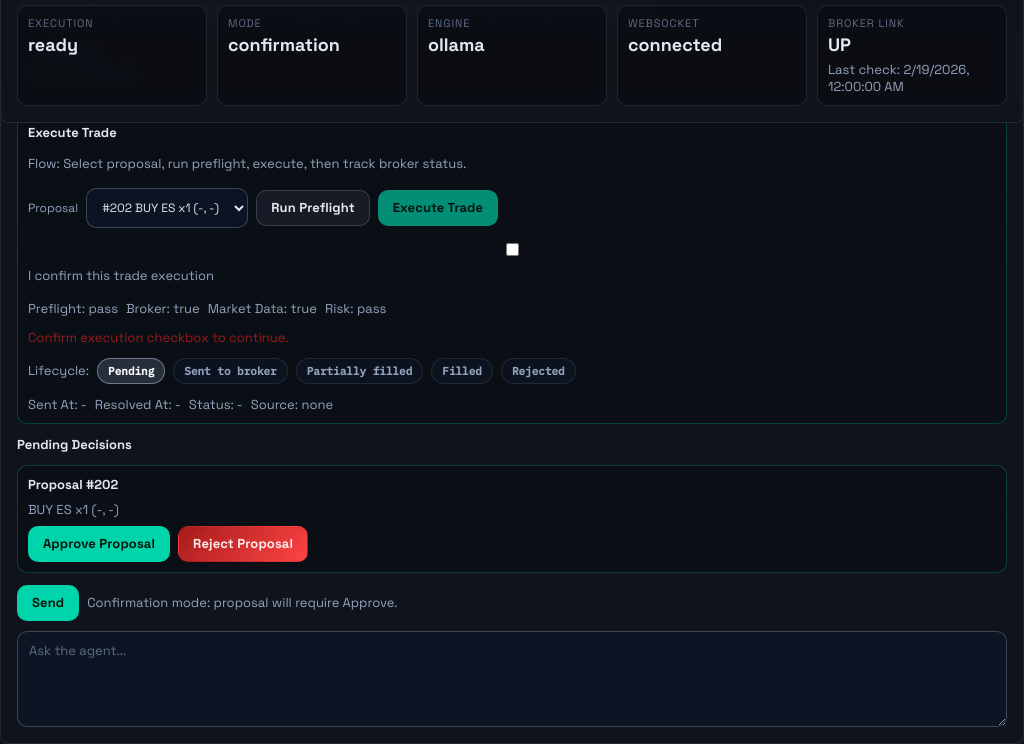
Test: AgentConsolePage › rejects a pending proposal
(page scrolled)
Expected: the text "Proposal #202" is shown, [28,476,118,492]
What coordinates should you click on to do the following:
click the button with test id "reject-proposal-202"
I would click on:
 (243, 544)
Its box is [178,526,308,562].
(page scrolled)
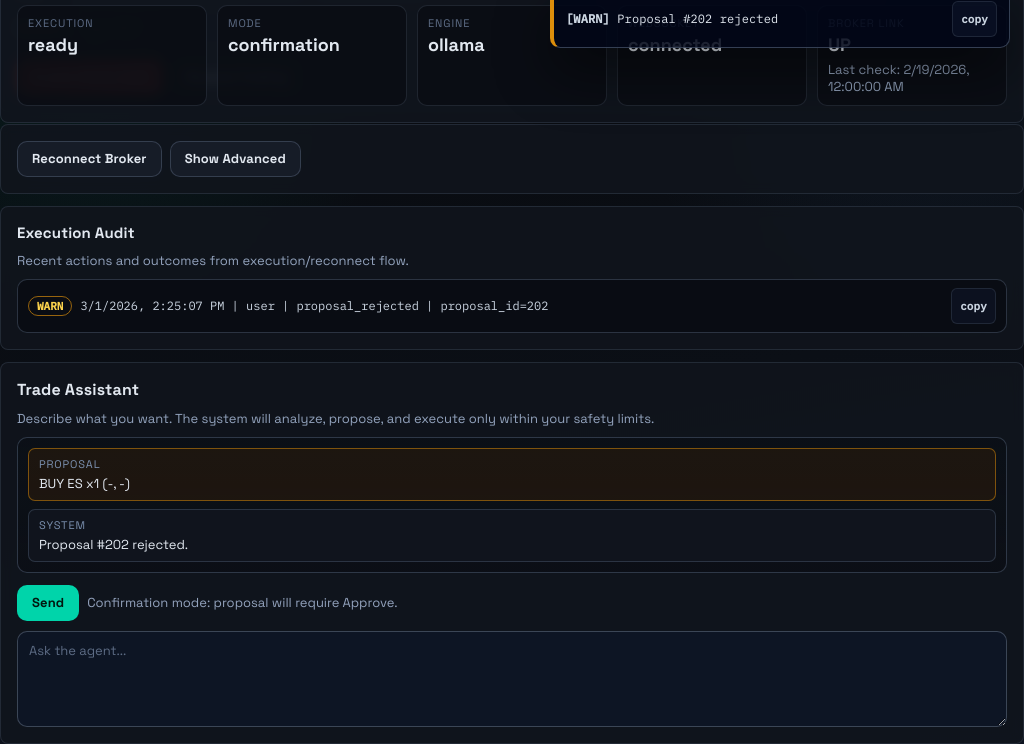
Now the text "Proposal #202 rejected." is shown, box [39,536,188,552]
